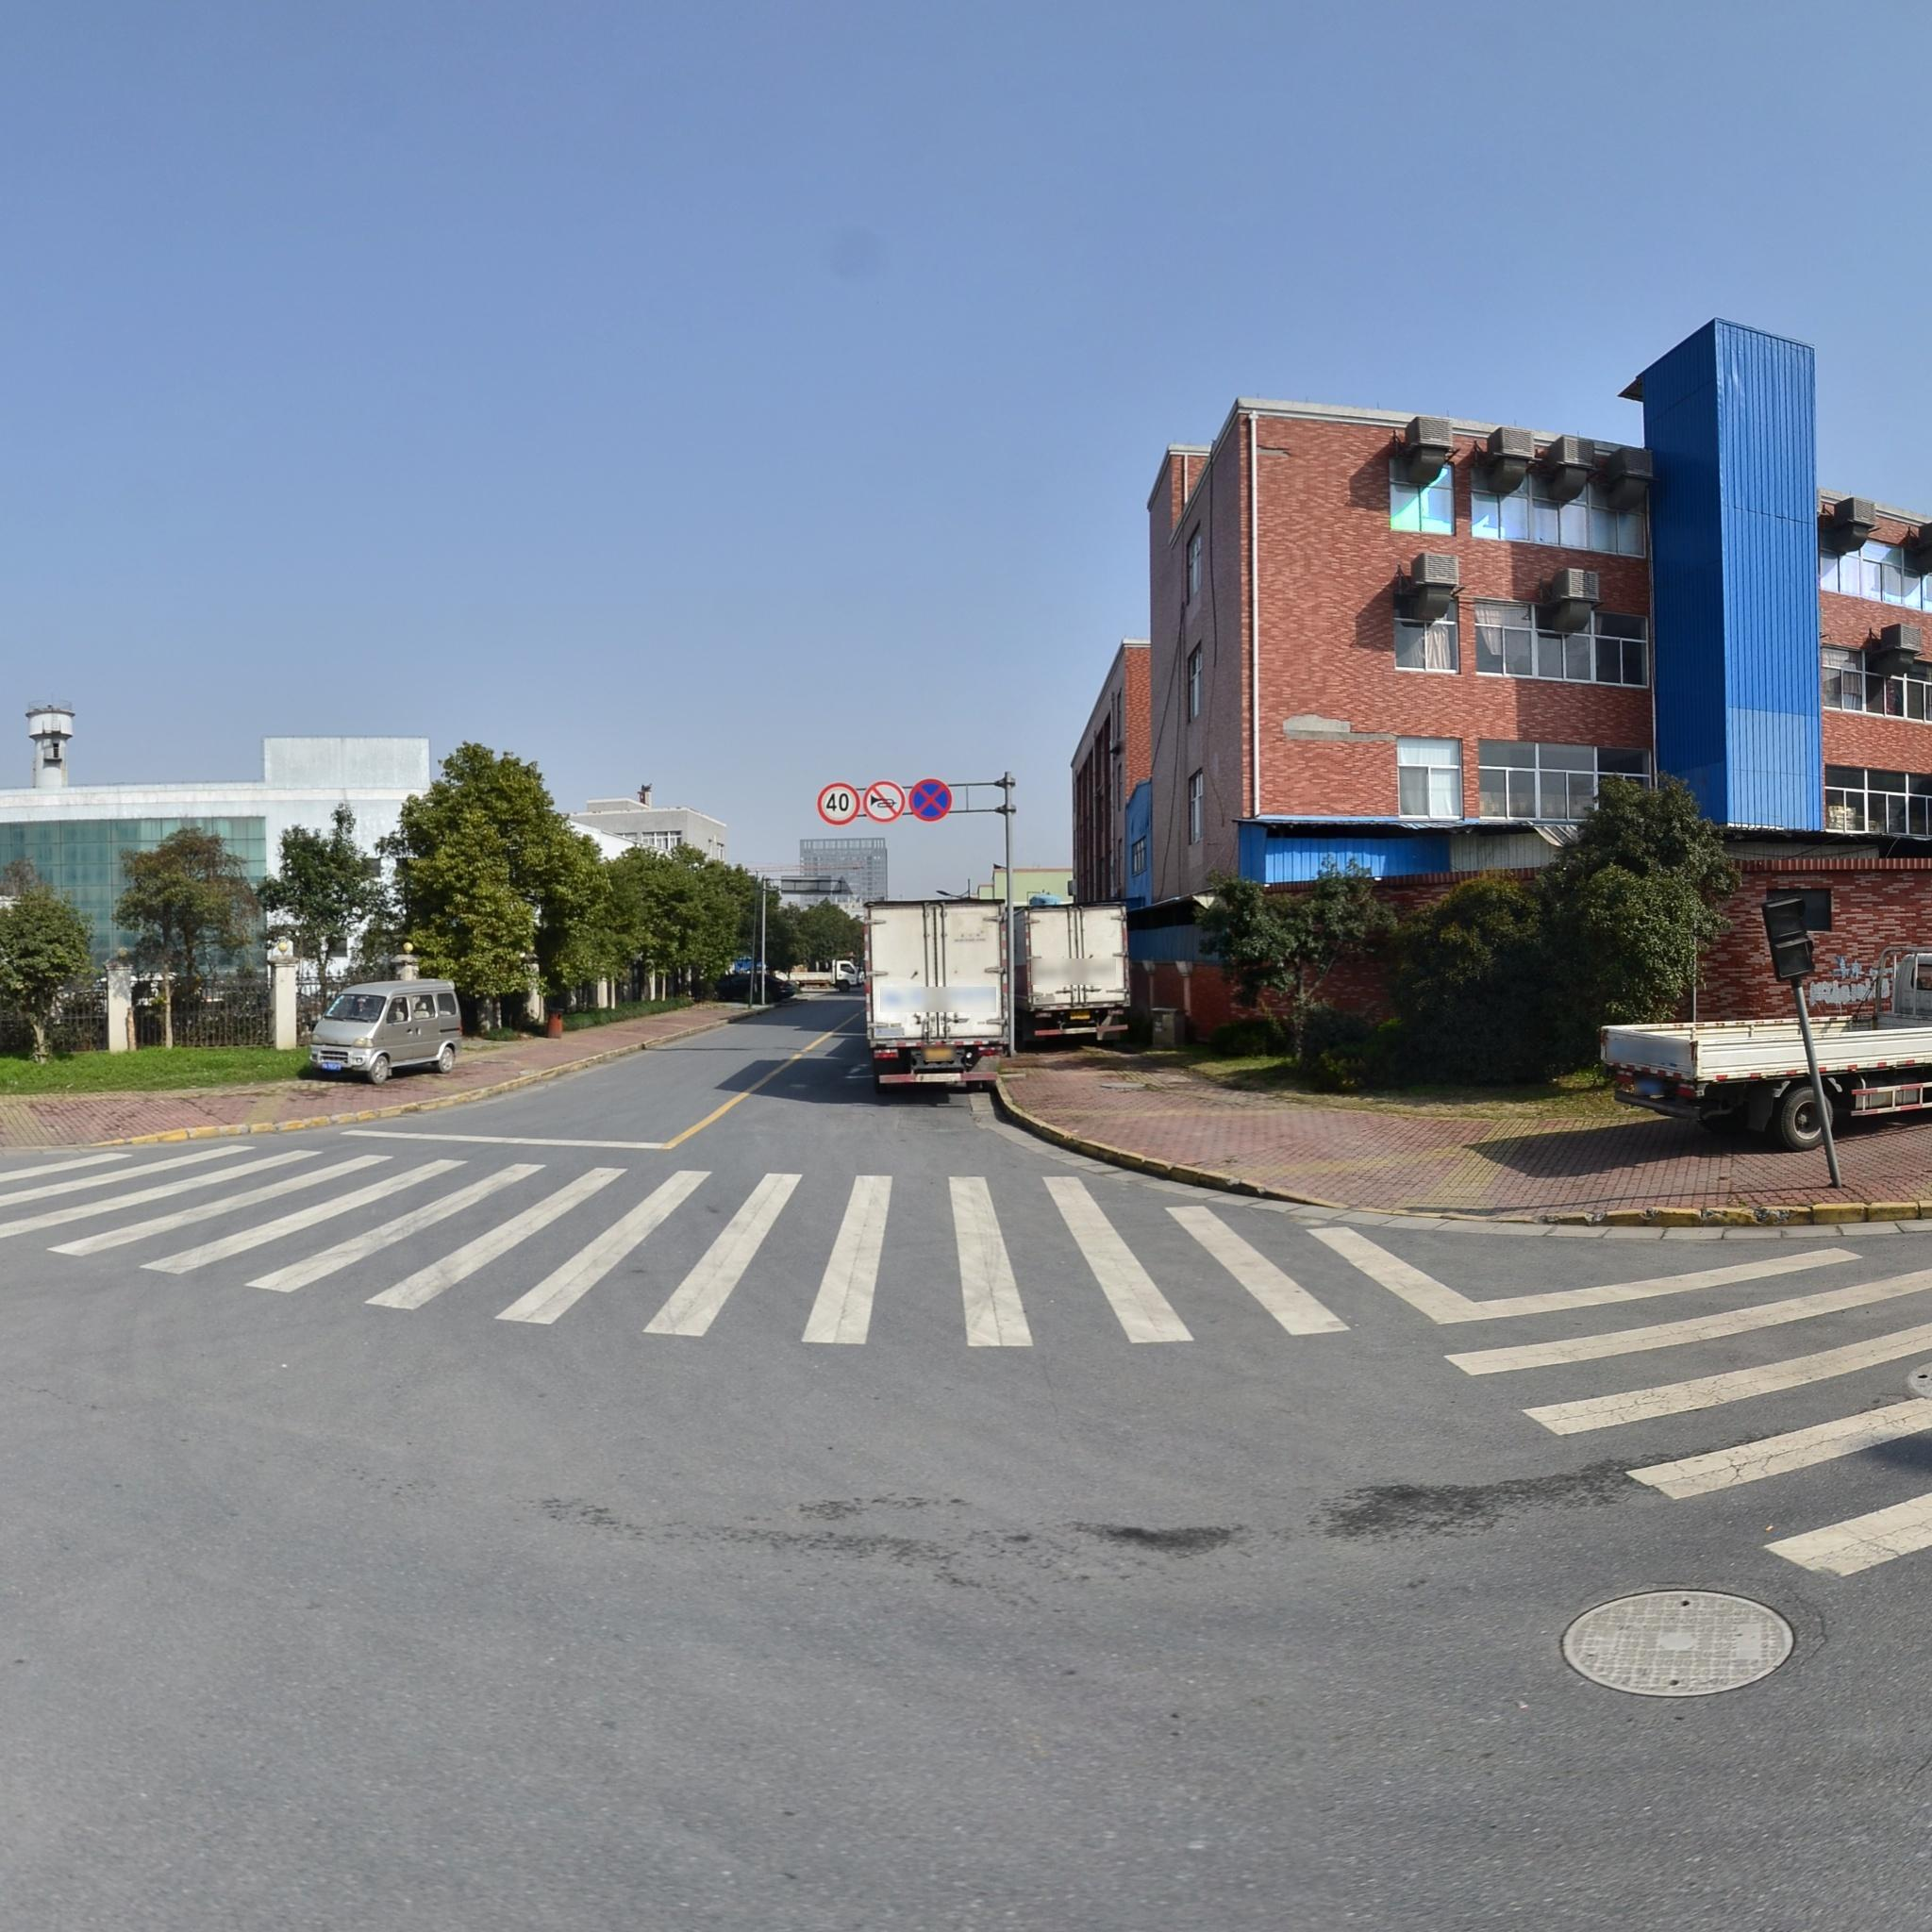p11: (865, 782, 906, 823)
pl40: (819, 784, 860, 824)
pn: (909, 778, 954, 819)
